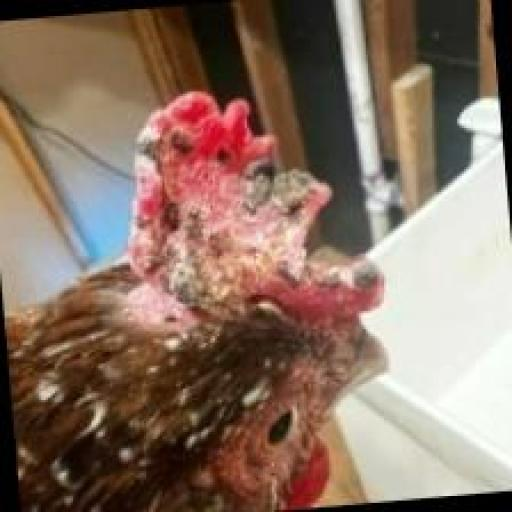disease: (117, 92, 393, 325)
